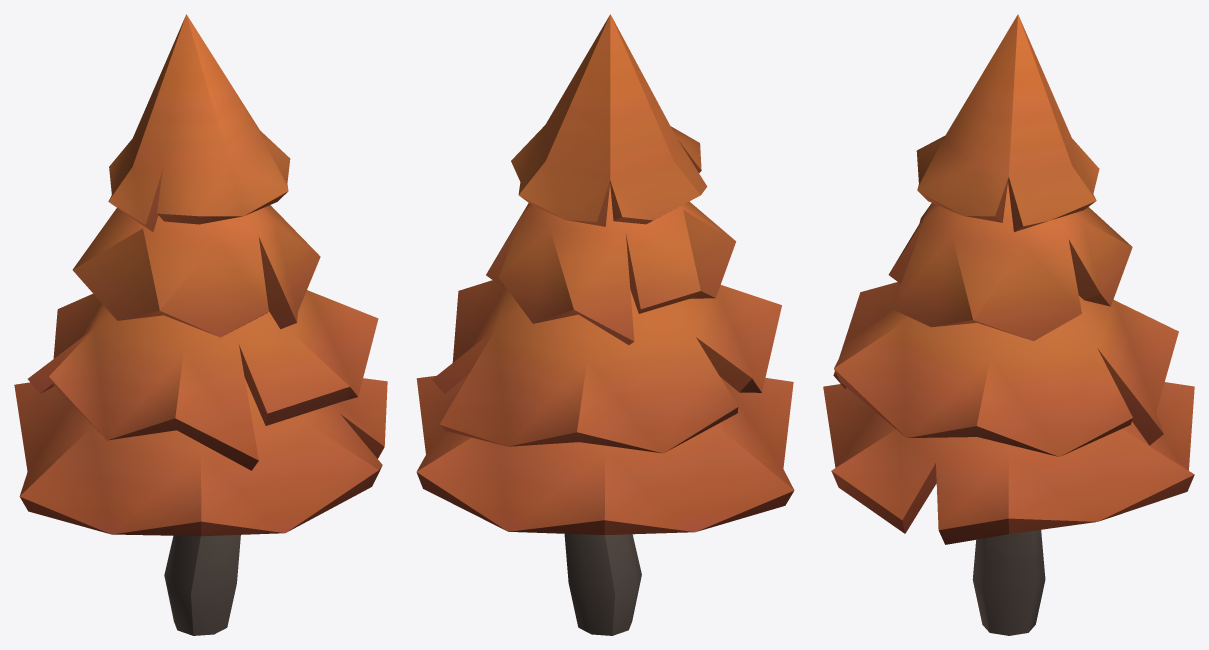
The model's file is kay-pinheiro-outono.gltf.
3 renders of one model, left to right at view 1: azimuth 30°, elevation 25°; view 2: azimuth 150°, elevation 25°; view 3: azimuth 270°, elevation 25°, orthographic.
Parts seen in each view (by area): view 1: tree_pine_orange_large; view 2: tree_pine_orange_large; view 3: tree_pine_orange_large.
Boxes of the visible parts, <box> form: tree_pine_orange_large: <box>14,14,387,635</box>; tree_pine_orange_large: <box>416,14,794,635</box>; tree_pine_orange_large: <box>823,14,1194,635</box>.
Size of the model in its own units: 2.38 by 3.74 by 2.08.
Materials: 1 (1 with a texture image).
